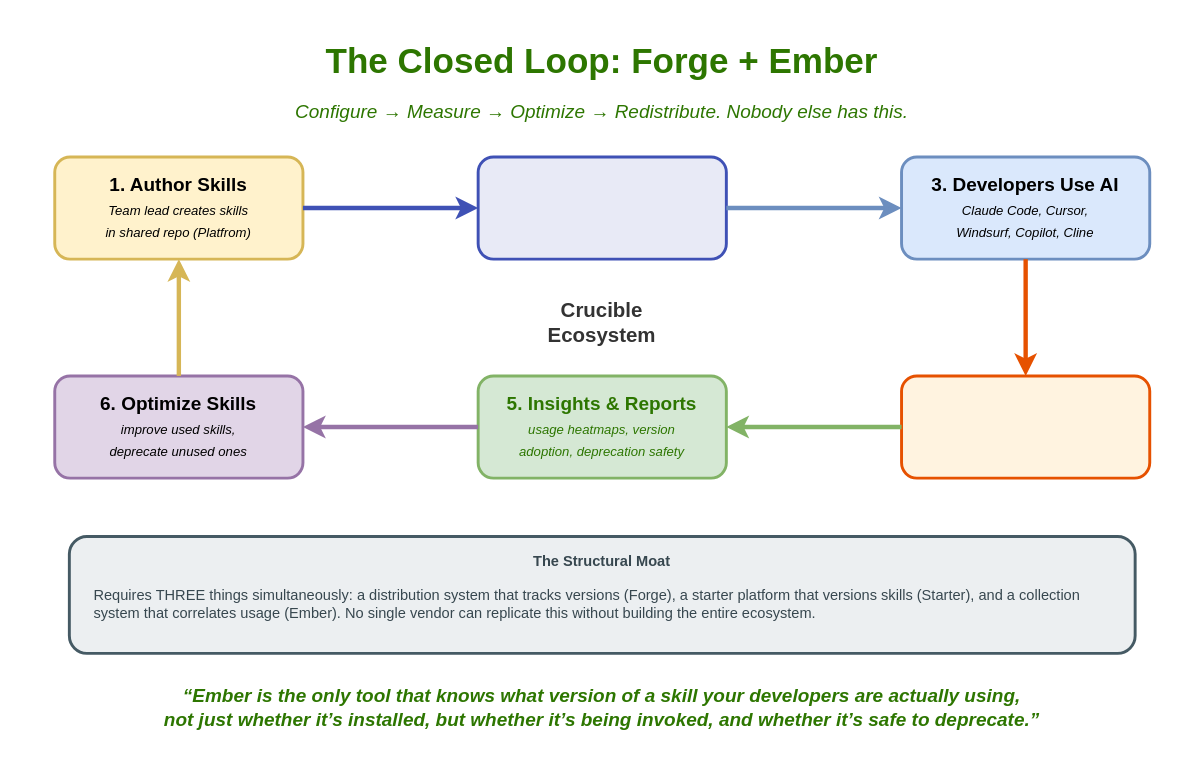
This 1203x780 diagram has some shape labels left out. The shapes that lost their labels are listed below. From the top down, each one's centre as x and y in pixels, then its label:
the point at 601,207: 2. Forge Distributes forge sync pushes skills to all developers
the point at 1024,426: 4. Ember Collects skill activation, version, tokens, acceptance, reverts
